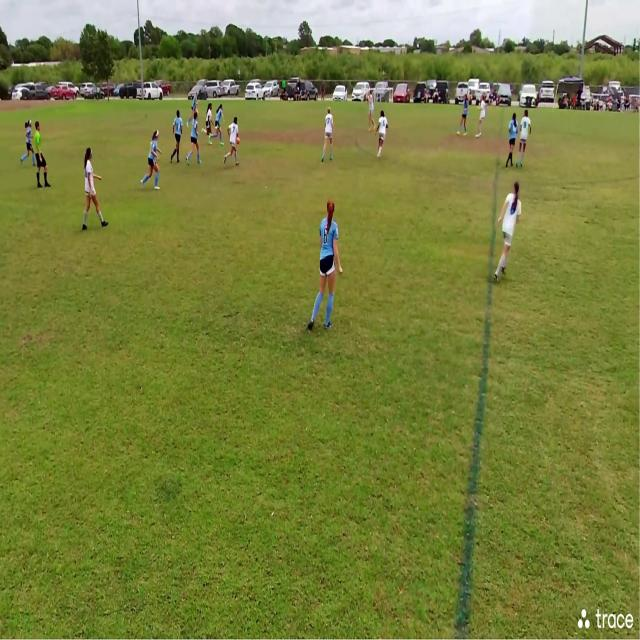ball: (236, 136, 241, 144)
team1: (314, 200, 342, 335), (144, 131, 164, 191), (505, 111, 519, 170), (170, 108, 184, 165), (188, 110, 202, 165), (21, 118, 36, 166), (216, 103, 227, 143), (461, 96, 471, 136), (191, 93, 200, 125)
team2: (497, 181, 522, 280), (82, 149, 105, 228), (225, 114, 243, 171), (519, 110, 532, 168), (323, 106, 335, 164), (376, 111, 388, 161), (203, 102, 214, 142), (479, 99, 487, 140), (368, 92, 376, 130)
